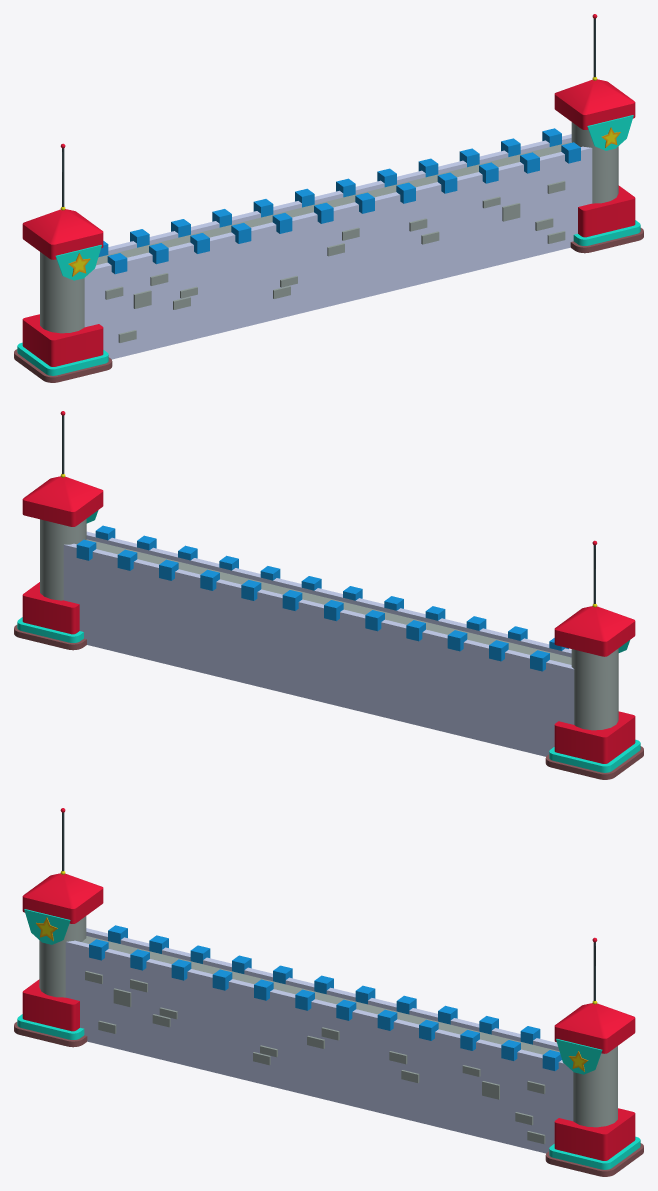
The model's file is ExittWall (1).fbx.
3 renders of one model, top to bottom at view 1: azimuth 30°, elevation 25°; view 2: azimuth 150°, elevation 25°; view 3: azimuth 330°, elevation 25°, orthographic.
Visible parts, largest first — view 1: Cube.012; view 2: Cube.012; view 3: Cube.012.
Boxes of the visible parts, x1=… form: Cube.012: x1=14, y1=14, x2=643, y2=382; Cube.012: x1=14, y1=411, x2=643, y2=779; Cube.012: x1=14, y1=808, x2=643, y2=1176.
Size of the model in its own units: 600 by 209 by 67.55.
1 material, 1 textured.
